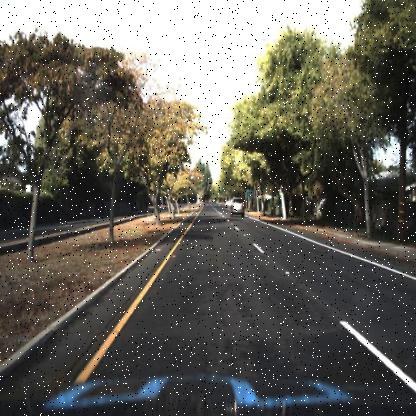car: (229, 195, 247, 219)
